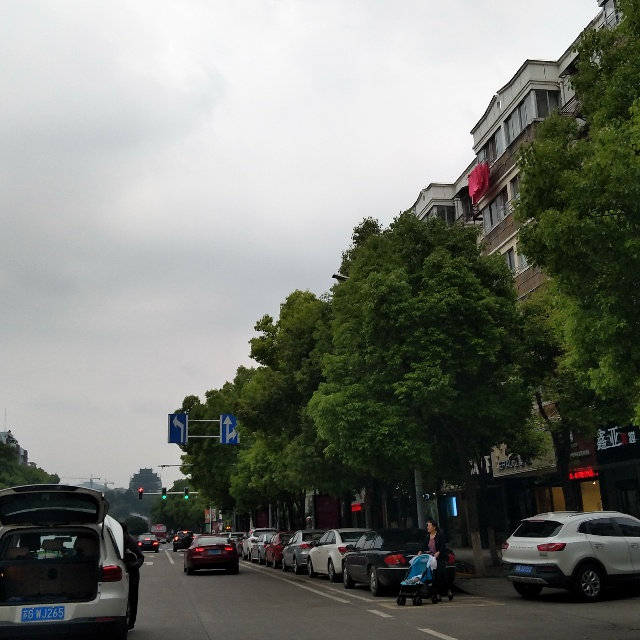left: (160, 412, 191, 448)
